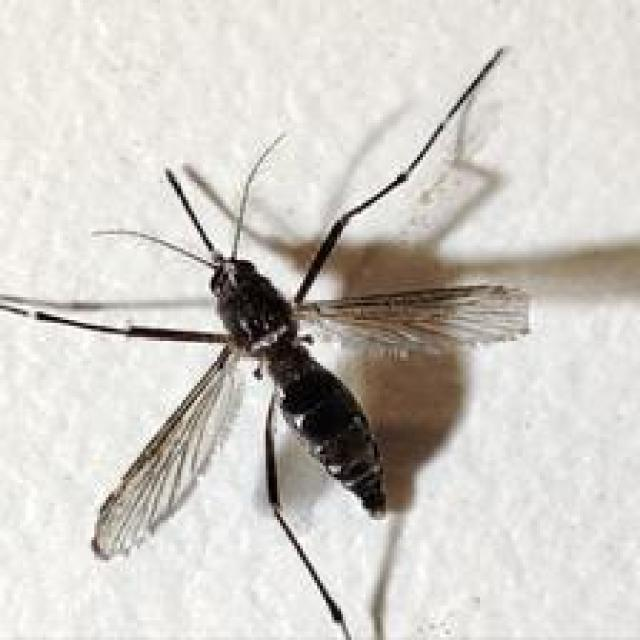Aedes albopictus: (0, 45, 534, 640)
